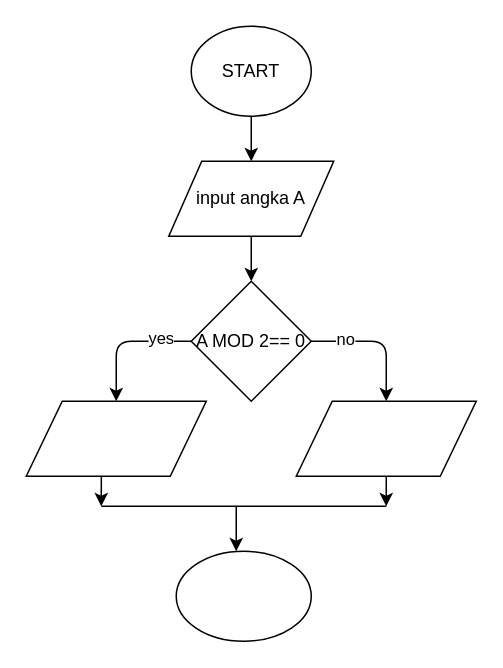
The diagram is 503 pixels wide and 668 high, and some of its shapes have lost their labels. The centre of each missing label's shape, as x and y in pixels:
A Bilangan Prima: point (115, 438)
A bukan bilangan Prima: point (385, 438)
